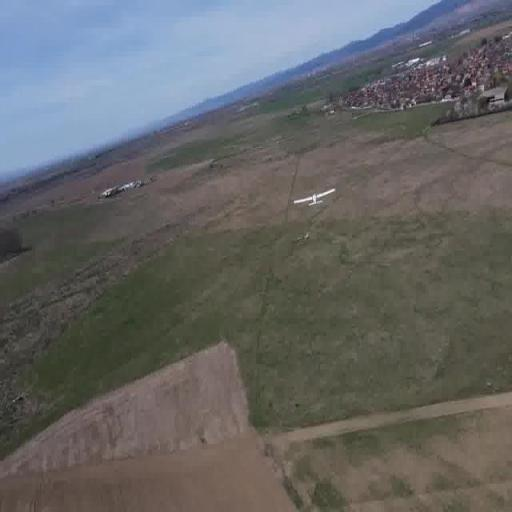uav: (286, 184, 340, 212)
